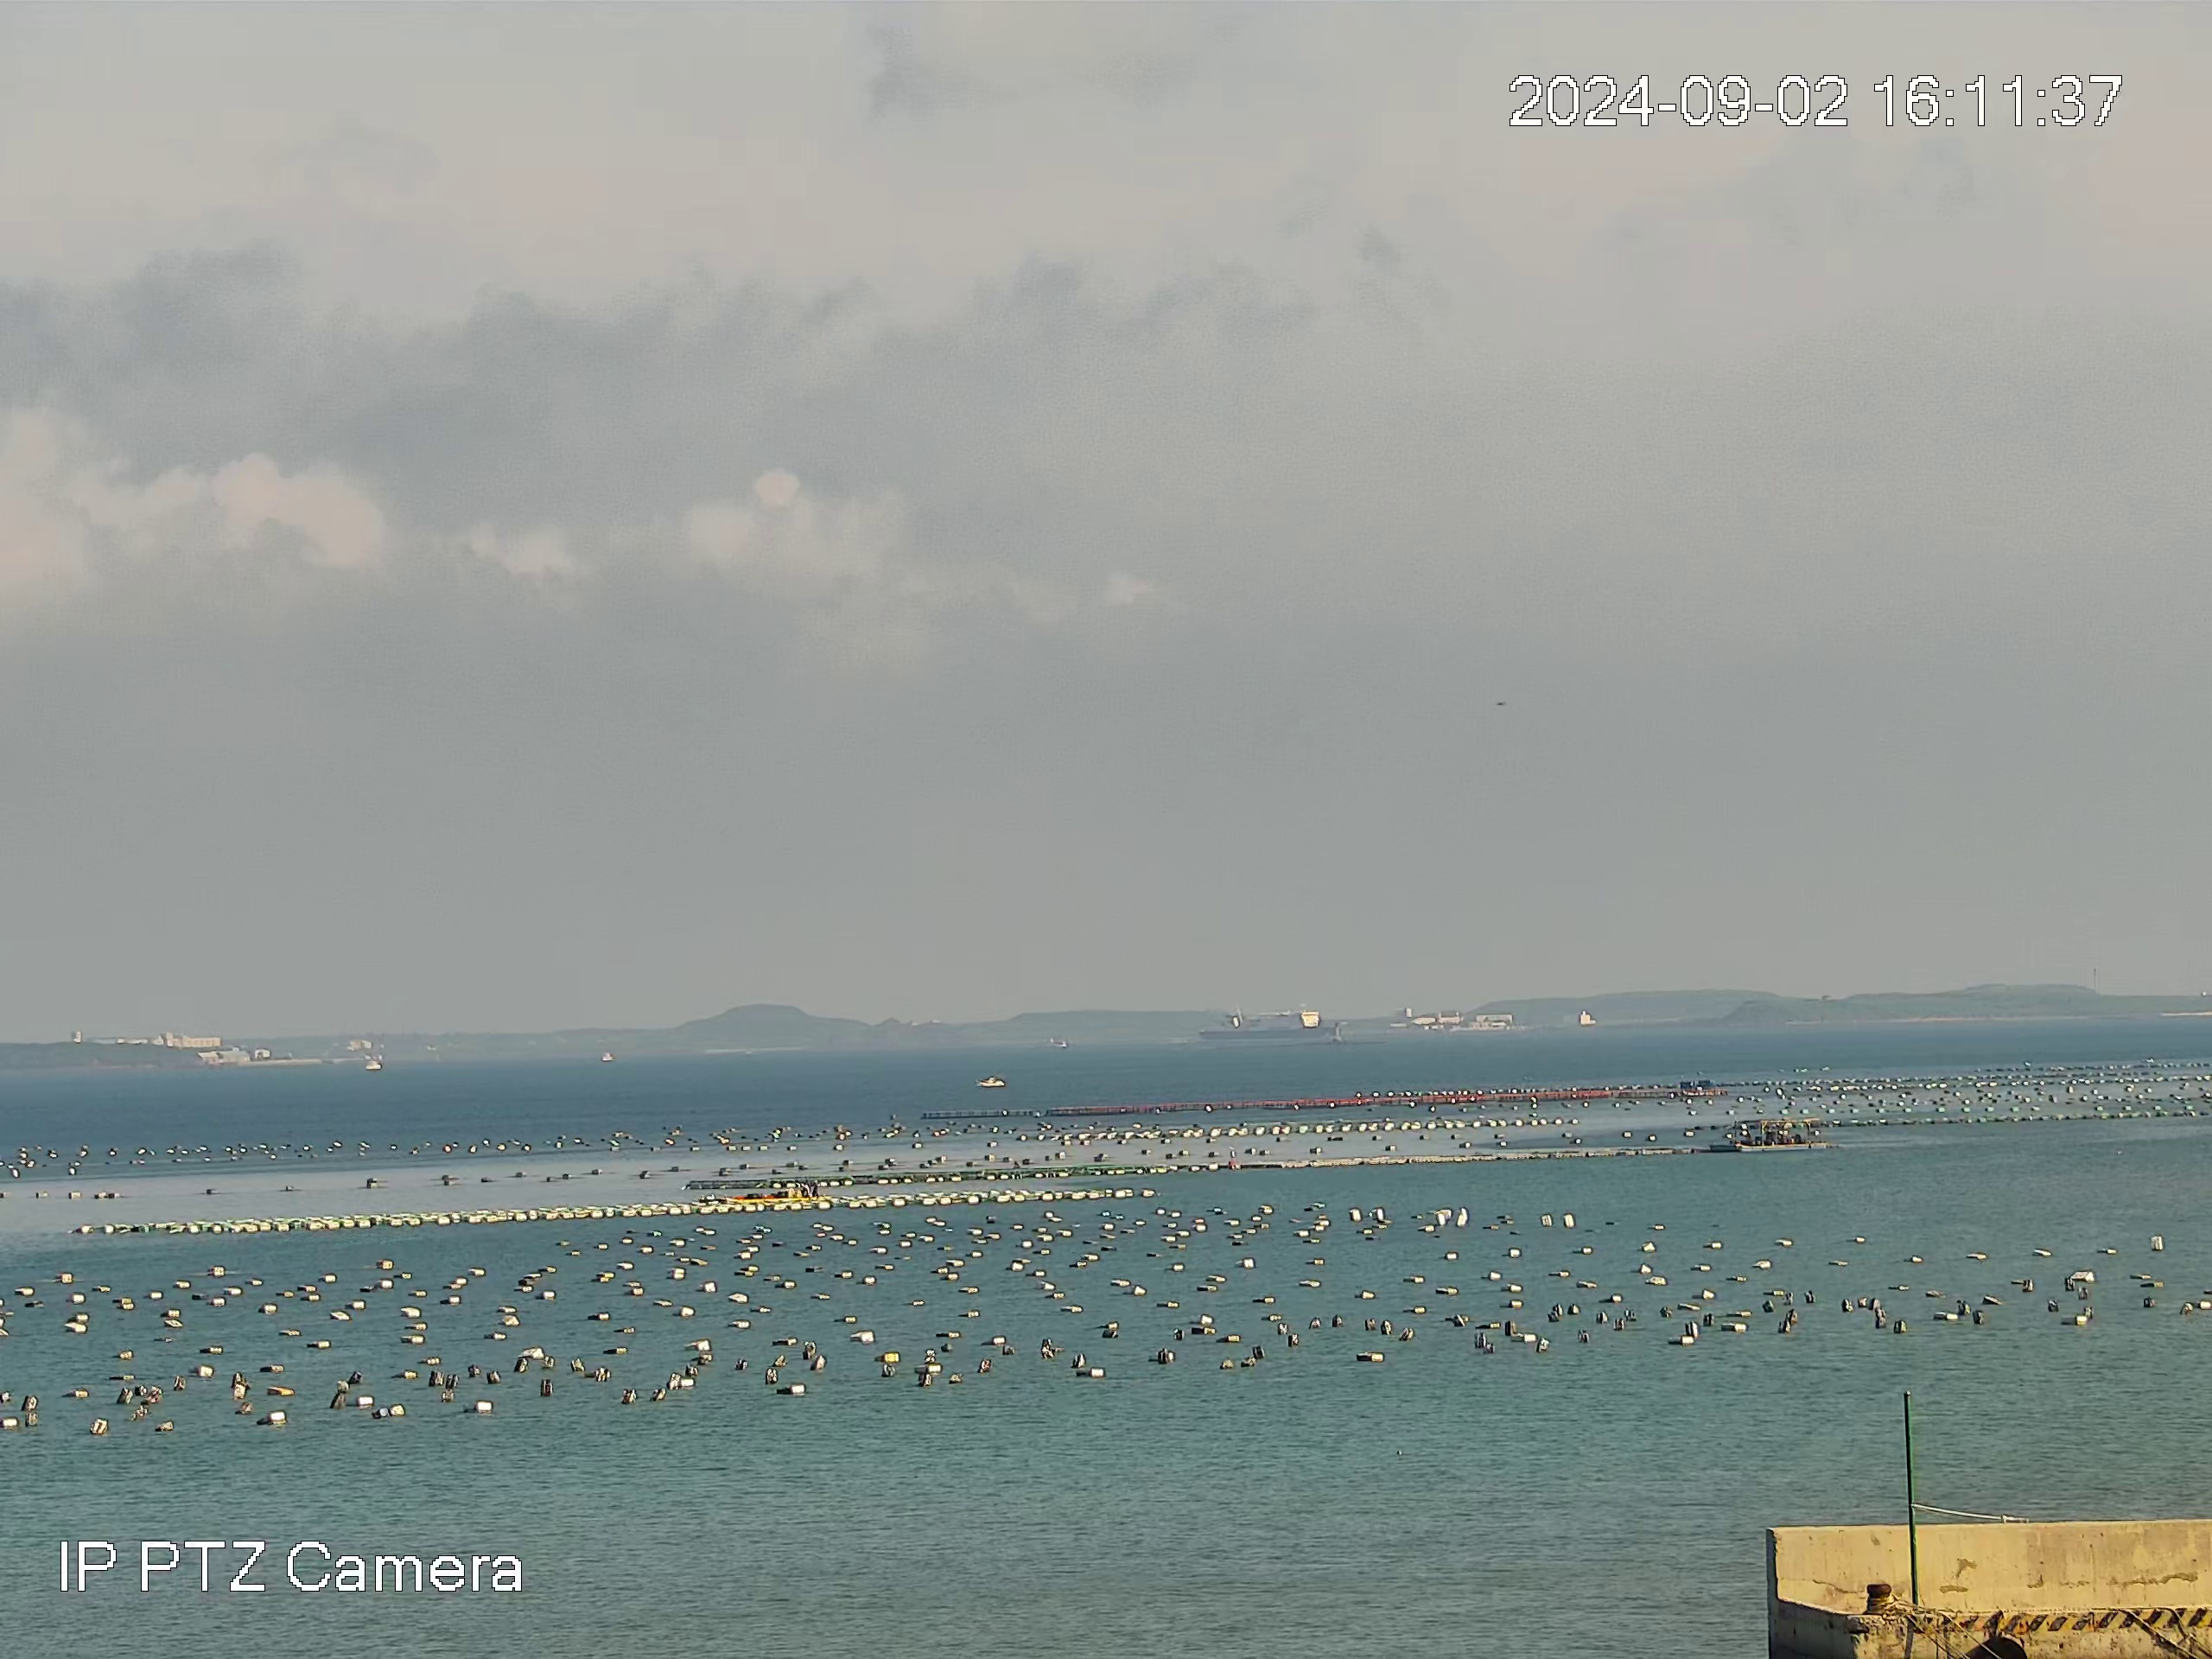boat: (1197, 1009, 1343, 1046), (1733, 1117, 1827, 1154), (723, 1180, 833, 1204), (975, 1075, 1005, 1087)
